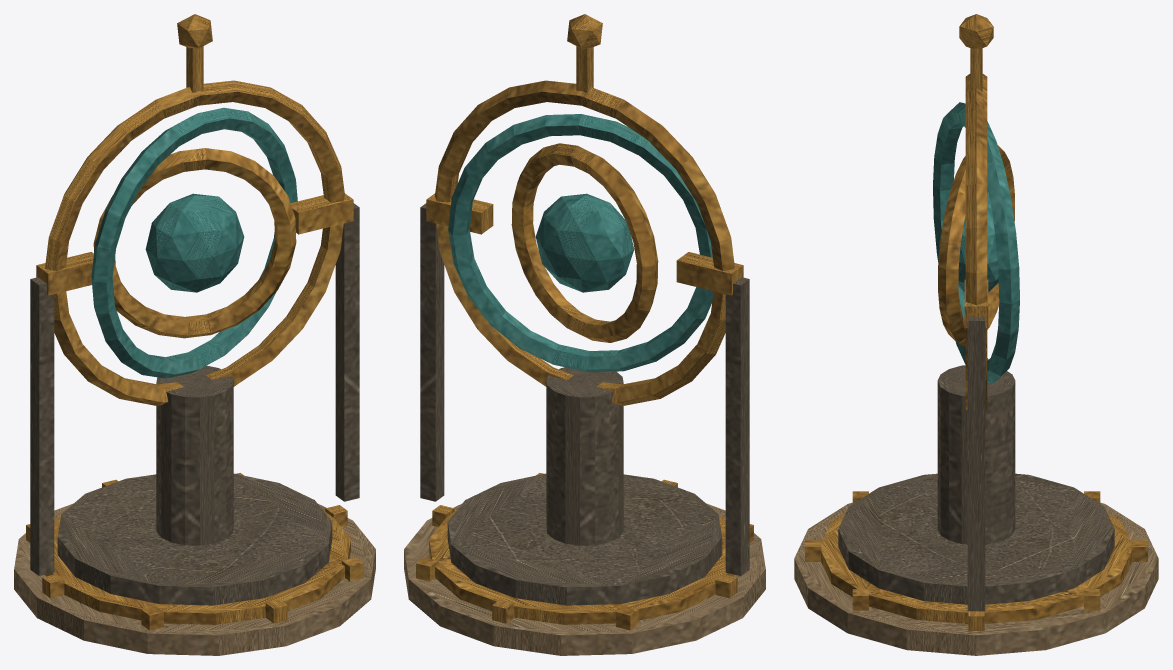
Rendered from preserve-pan-theme-song.glb.
The picture shows the model from 3 angles, left to right: view 1: azimuth 30°, elevation 25°; view 2: azimuth 150°, elevation 25°; view 3: azimuth 270°, elevation 25°; orthographic projection.
Parts seen in each view (by area): view 1: preserve-pan-theme-song; view 2: preserve-pan-theme-song; view 3: preserve-pan-theme-song.
Part boxes in pixels (bbox=[...]): preserve-pan-theme-song: bbox=[14, 14, 375, 655]; preserve-pan-theme-song: bbox=[404, 14, 765, 655]; preserve-pan-theme-song: bbox=[794, 14, 1158, 655].
Size of the model in its own units: 2.94 by 4.96 by 2.9.
1 material, 1 textured.
